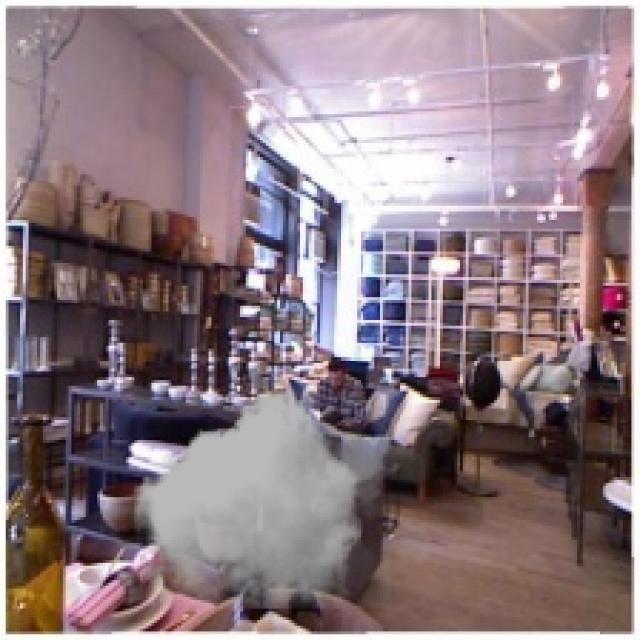Smoke: (128, 392, 392, 608)
